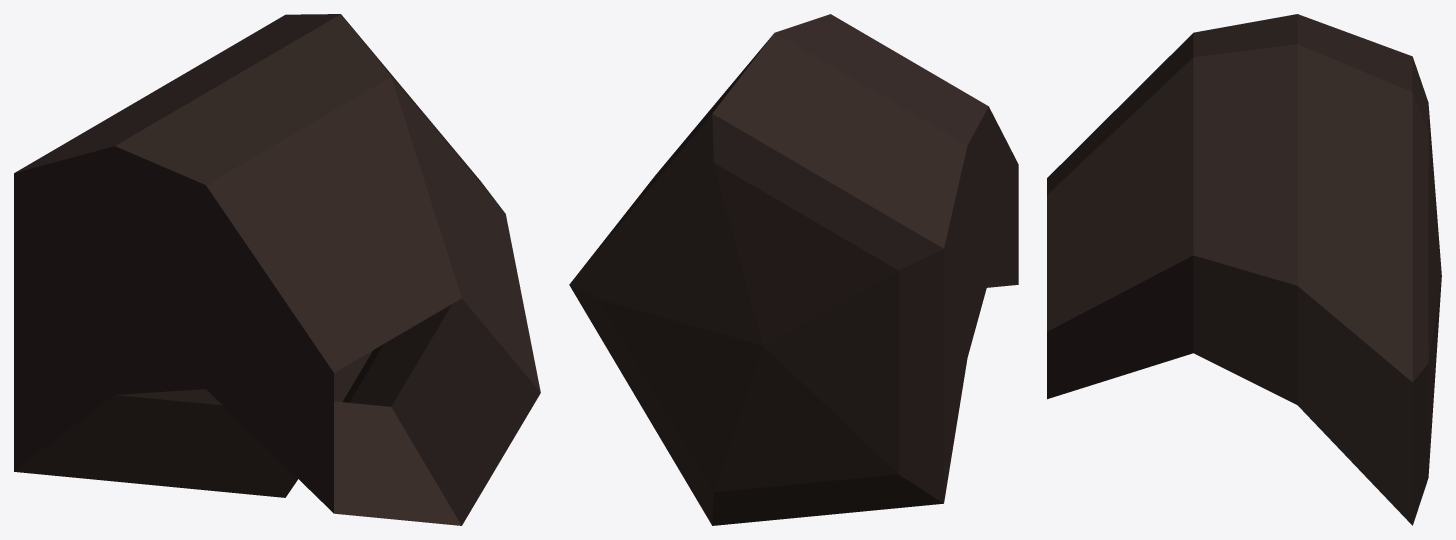
File: BR_Psyduck-Shiny01.obj
3 views of the same model, side by side, from view 1: azimuth 30°, elevation 25°; view 2: azimuth 150°, elevation 25°; view 3: azimuth 270°, elevation 25° (orthographic). The views are drawn at different scales.
Visible parts, largest first — view 1: koduck; view 2: koduck; view 3: koduck.
Boxes of the visible parts, box(x1,y1,x2,y2) form: koduck: box(14, 14, 540, 525); koduck: box(569, 14, 1018, 525); koduck: box(1047, 14, 1441, 525).
Size of the model in its own units: 1.75 by 2.03 by 1.52.
